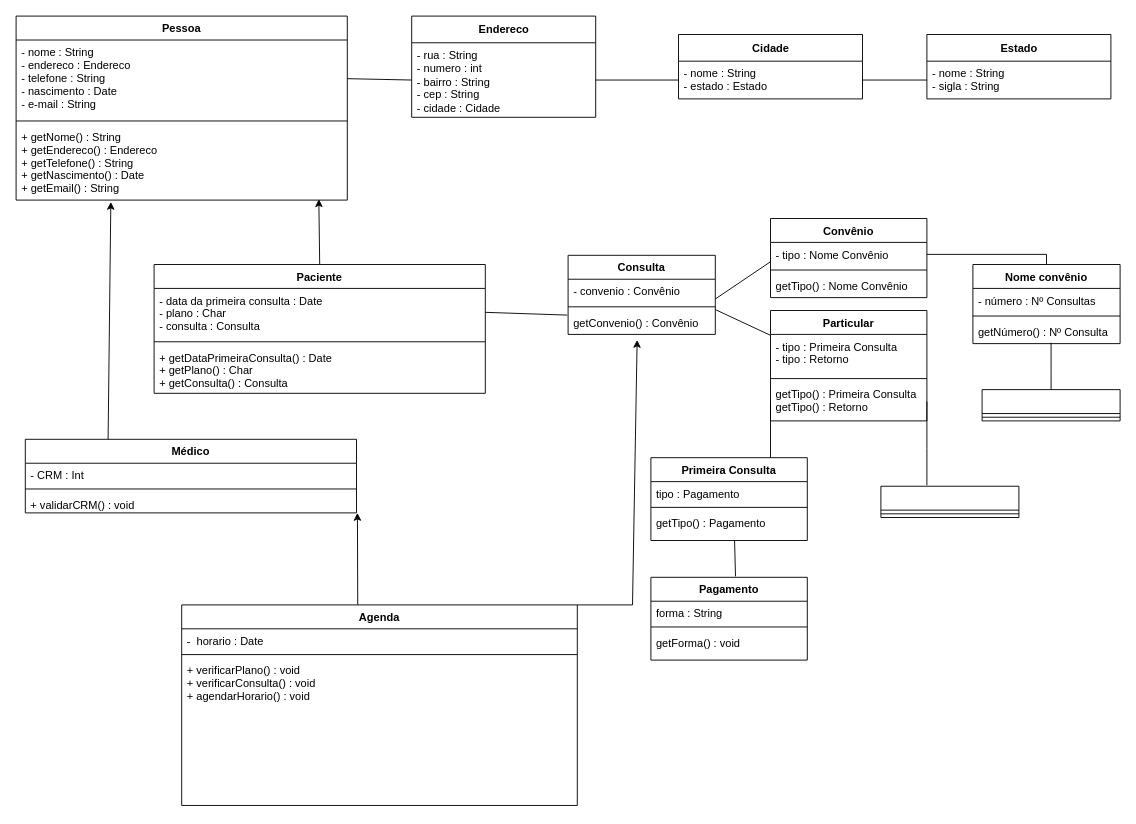
This 1136x824 diagram has some shape labels left out. The centre of each missing label's shape, as x and y in pixels:
Nº Consulta: point 1050,405
Retorno: point 949,501
